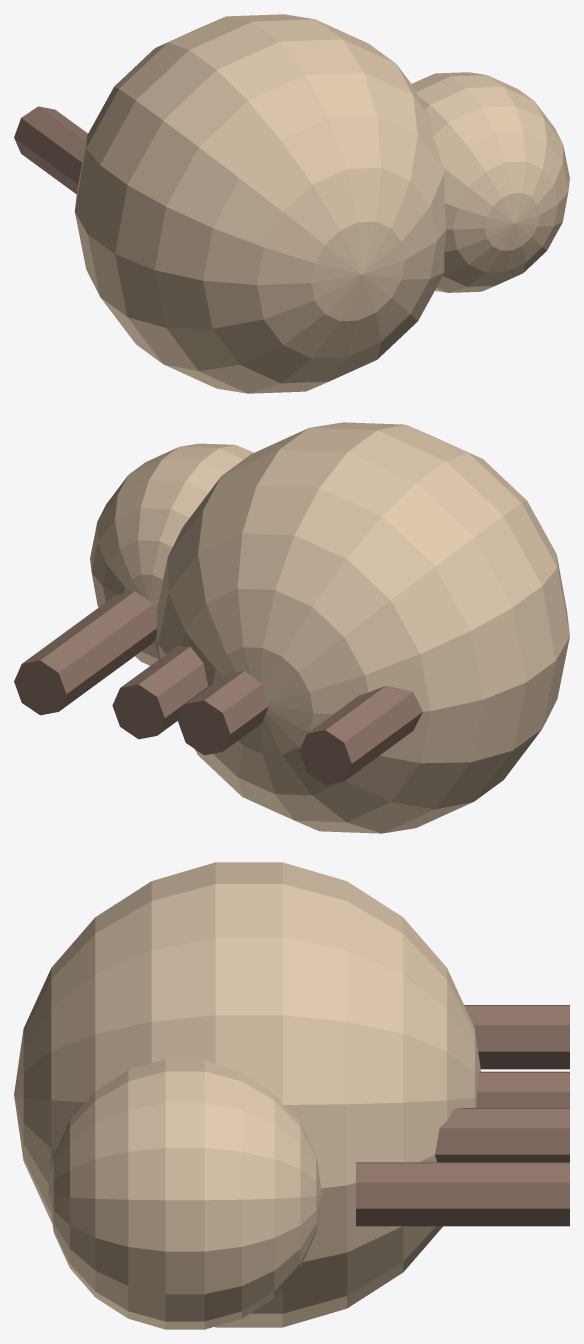
File: Cat.glb
3 views of the same model, one above another, from view 1: azimuth 30°, elevation 25°; view 2: azimuth 150°, elevation 25°; view 3: azimuth 270°, elevation 25° (orthographic). The views are drawn at different scales.
Visible parts, largest first — view 1: body, head, leg1; view 2: body, head, leg4, leg1, leg3, leg2; view 3: body, head, leg4, leg3, leg1, leg2.
Part boxes in pixels (box(x1,y1,x2,y2)): body: box(74, 14, 446, 393); head: box(412, 72, 569, 292); leg1: box(14, 106, 87, 193); body: box(156, 422, 569, 833); head: box(90, 443, 253, 665); leg4: box(14, 591, 157, 715); leg1: box(299, 685, 422, 784); leg3: box(112, 646, 208, 739); leg2: box(178, 671, 268, 755); body: box(14, 862, 480, 1327); head: box(48, 1059, 321, 1329); leg4: box(356, 1162, 569, 1226); leg3: box(435, 1108, 569, 1162); leg1: box(464, 1005, 569, 1069); leg2: box(476, 1071, 569, 1107).
Bounding box in the file's own units: 0.7761 × 0.5988 × 0.715.
